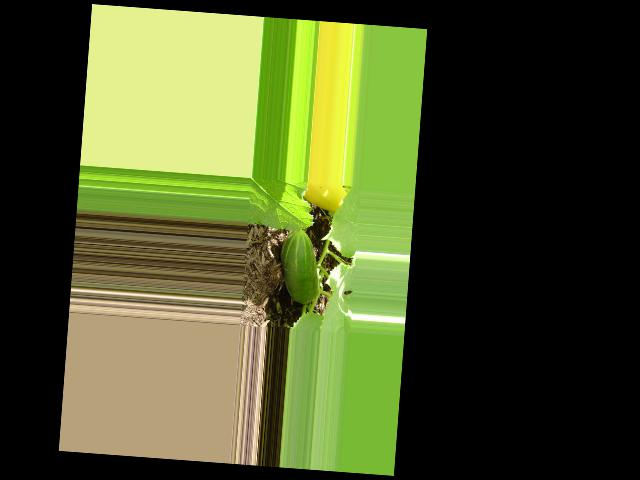cucumber: (276, 228, 322, 305)
